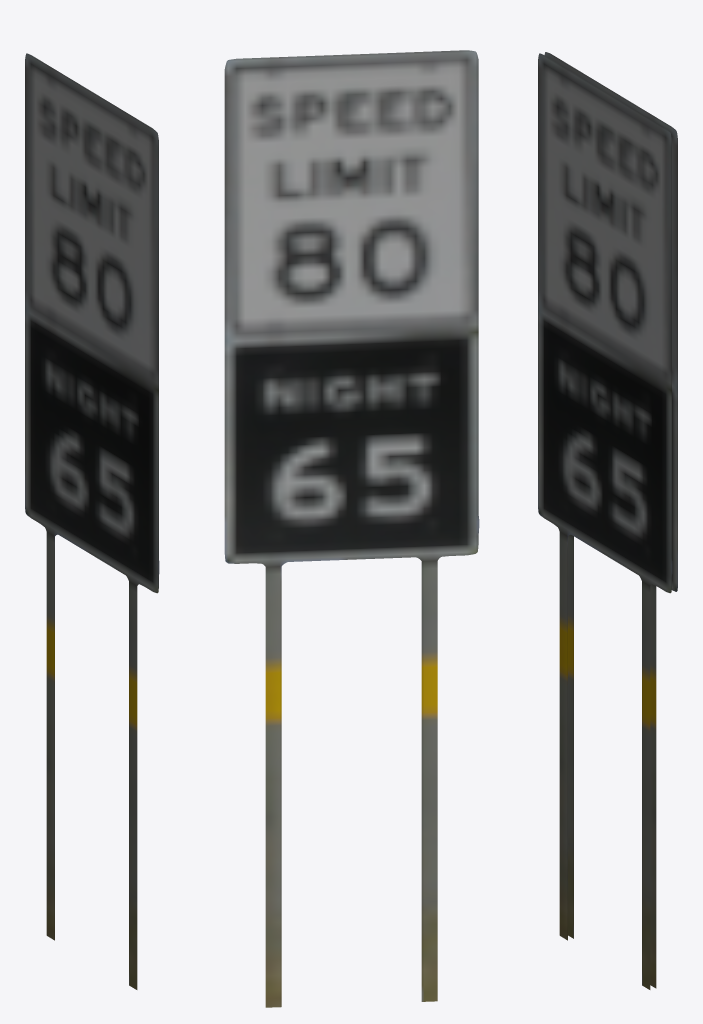
File: highway_limit.FBX
3 views of the same model, side by side, from view 1: azimuth 90°, elevation 25°; view 2: azimuth 150°, elevation 25°; view 3: azimuth 270°, elevation 25° (orthographic). The views are drawn at different scales.
Parts seen in each view (by area): view 1: highway_limit; view 2: highway_limit; view 3: highway_limit.
Part boxes in pixels (<box>): highway_limit: <box>25,53,159,989</box>; highway_limit: <box>224,50,479,1007</box>; highway_limit: <box>538,52,677,989</box>.
Bounding box in the file's own units: 36.84 × 162 × 26.28.
